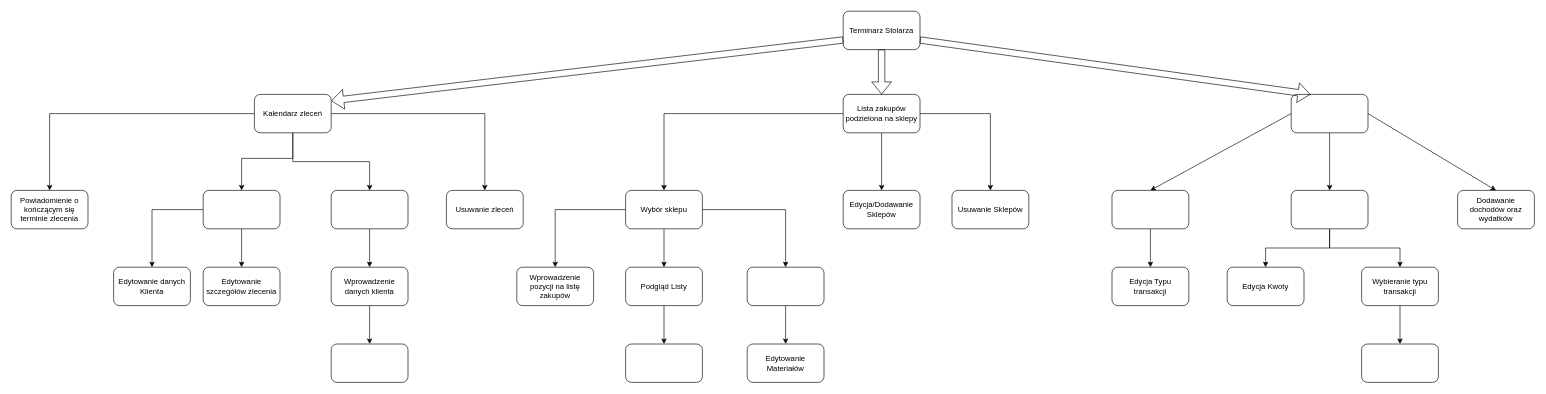
This 1546x394 diagram has some shape labels left out. The centre of each missing label's shape, as x and y in pixels:
"Edycja dochodów oraz wydatków" goes at (1329,209).
"Edycja Listy zakupów" goes at (785,286).
"Edycja Zleceń" goes at (241,209).
"Historia dochodów oraz wydatków" goes at (1150,209).
"Kalkulator Zysków" goes at (1329,113).
"Wprowadzanie Zleceń" goes at (369,209).
"Wprowadzenie kwoty transakcji" goes at (1399,362).
"Wprowadzenie szczegółów zlecenia" goes at (369,362).
"Zaznaczenie zakupionych towarów" goes at (663,362).
